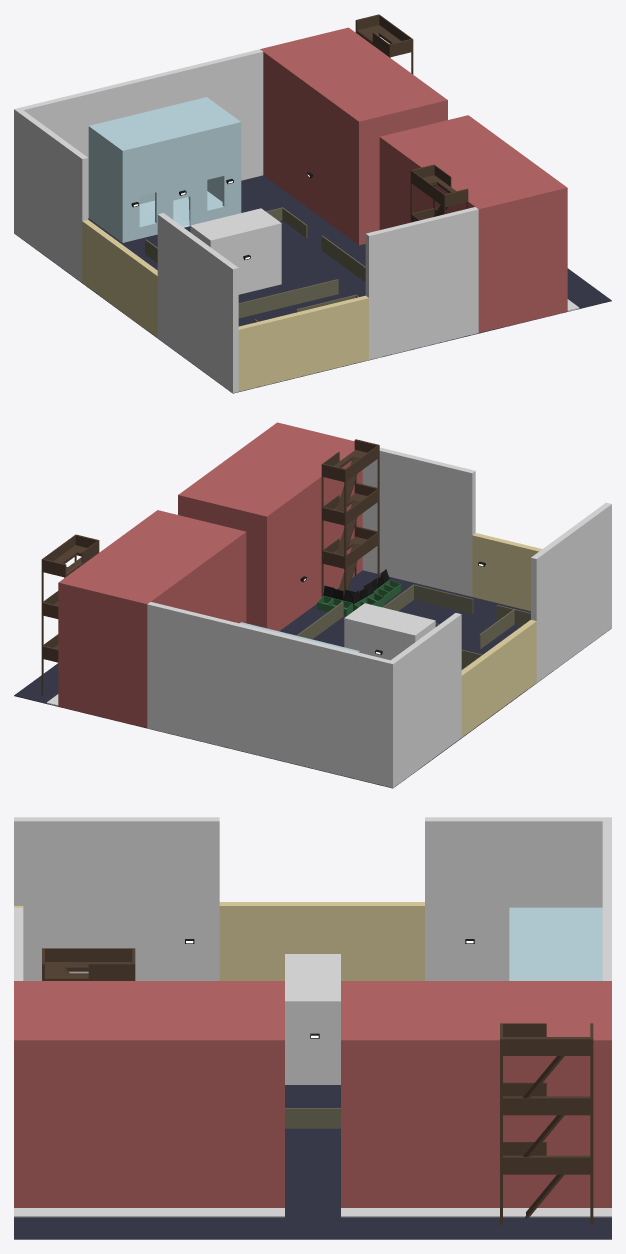
The picture shows the model from 3 angles, top to bottom: view 1: azimuth 30°, elevation 25°; view 2: azimuth 150°, elevation 25°; view 3: azimuth 270°, elevation 25°; orthographic projection. The views are drawn at different scales.
Visible parts, largest first — view 1: Cube.034, Cube.035, Cube.002, Cube.038, Cube.037, Cube.039, Cube.033, Cube.040, Cube.041, Cube.036, Cube.001, Ladder.005 (+3 smaller); view 2: Cube.037, Cube.034, Cube.035, Cube.038, Cube.039, Cube.040, Cube.033, Cube.036, Cube.041, Cube.001, Ladder.005, Ladder.004 (+8 smaller); view 3: Cube.035, Cube.034, Cube.039, Cube.040, Cube.033, Cube.036, Cube.001, Cube.002, Ladder.002, Ladder.005, Ladder.001, Ladder (+5 smaller).
Part boxes in pixels (x1,y1,x2,y2): Cube.034: (260,27,447,245); Cube.035: (379,115,567,332); Cube.002: (88,97,241,242); Cube.038: (365,207,478,359); Cube.037: (20,49,263,217); Cube.039: (157,213,238,392); Cube.033: (14,175,611,393); Cube.040: (14,107,88,282); Cube.041: (238,295,368,391); Cube.036: (82,220,157,337); Cube.001: (190,208,281,294); Ladder.005: (410,164,468,222); Cube.037: (147,602,389,786); Cube.034: (58,510,246,727); Cube.035: (178,422,362,631); Cube.038: (362,447,475,596); Cube.039: (531,502,611,682); Cube.040: (387,613,461,787); Cube.033: (14,570,611,788); Cube.036: (461,620,536,737); Cube.041: (472,533,541,611); Cube.001: (344,603,435,660); Ladder.005: (321,439,379,525); Ladder.004: (321,483,379,568); Cube.035: (14,981,284,1207); Cube.034: (341,981,611,1207); Cube.039: (14,817,219,980); Cube.040: (425,817,611,980); Cube.033: (14,1085,611,1239); Cube.036: (219,902,424,980); Cube.001: (285,954,340,1084); Cube.002: (509,907,602,980); Ladder.002: (500,1023,593,1115); Ladder.005: (42,948,135,980); Ladder.001: (500,1082,593,1174); Ladder: (500,1142,593,1224).
Size of what is drawn, in the model's own units: 64 by 23 by 64.
